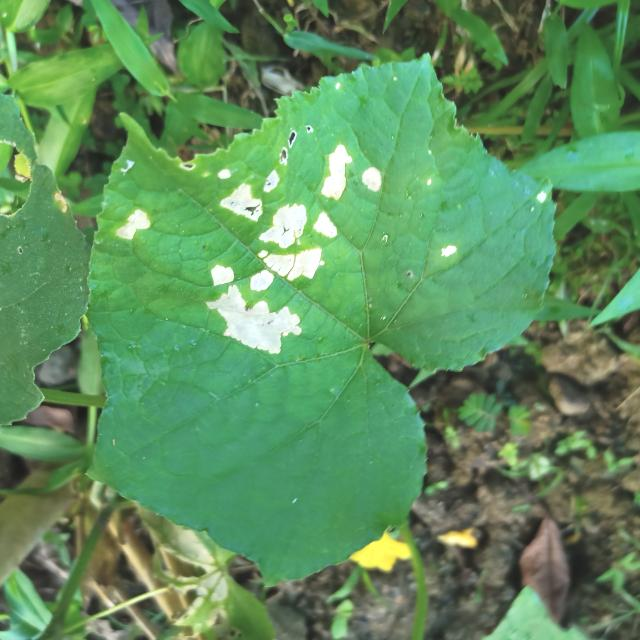disease_cucumber: (204, 140, 386, 357), (115, 195, 159, 248), (439, 238, 462, 261)
